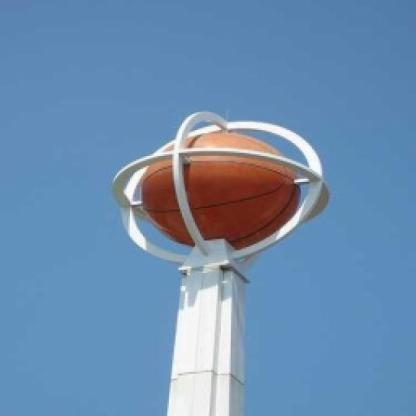basketball: (146, 131, 301, 250)
